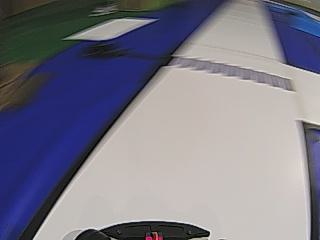CrossWalk: (165, 51, 302, 94)
